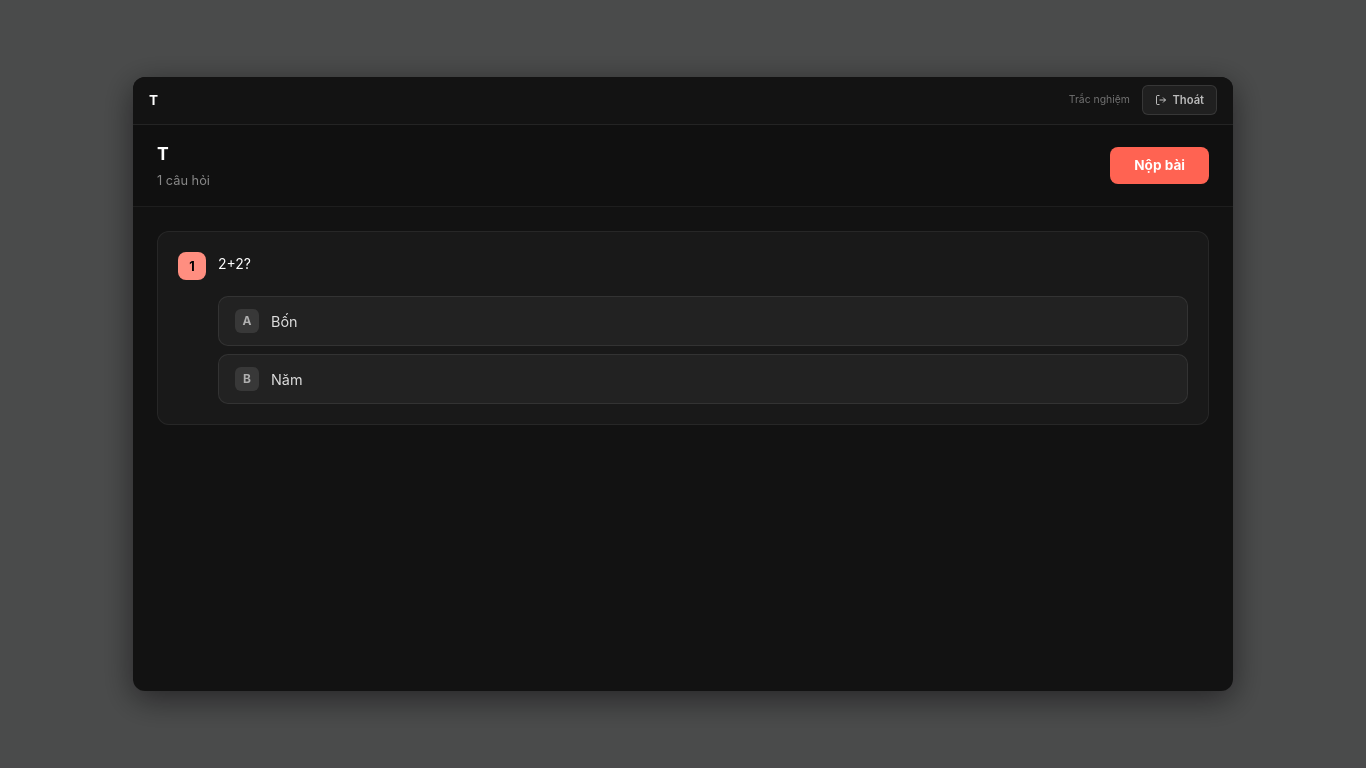
it: AssignmentWorkOverlay — nộp bài vào lớp đã lưu trữ › 409 CLASS_ARCHIVED: hộp thông báo hiện message tiếng Việt của backend, không phải 'HTTP 409'
Click the text "Bốn" at point(284, 321), box x1=271 y1=313 x2=298 y2=330
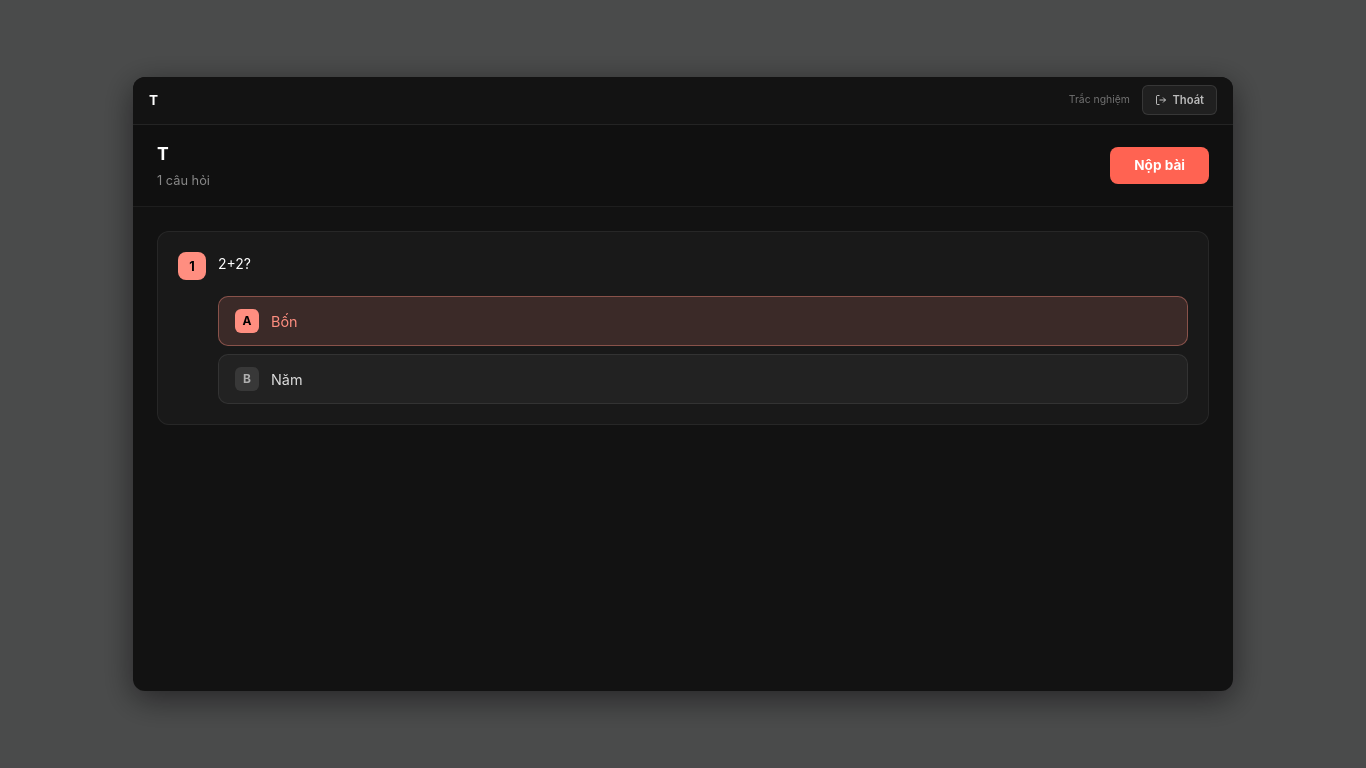
Click the button "Nộp bài" at point(1160, 166), box x1=1110 y1=147 x2=1209 y2=184
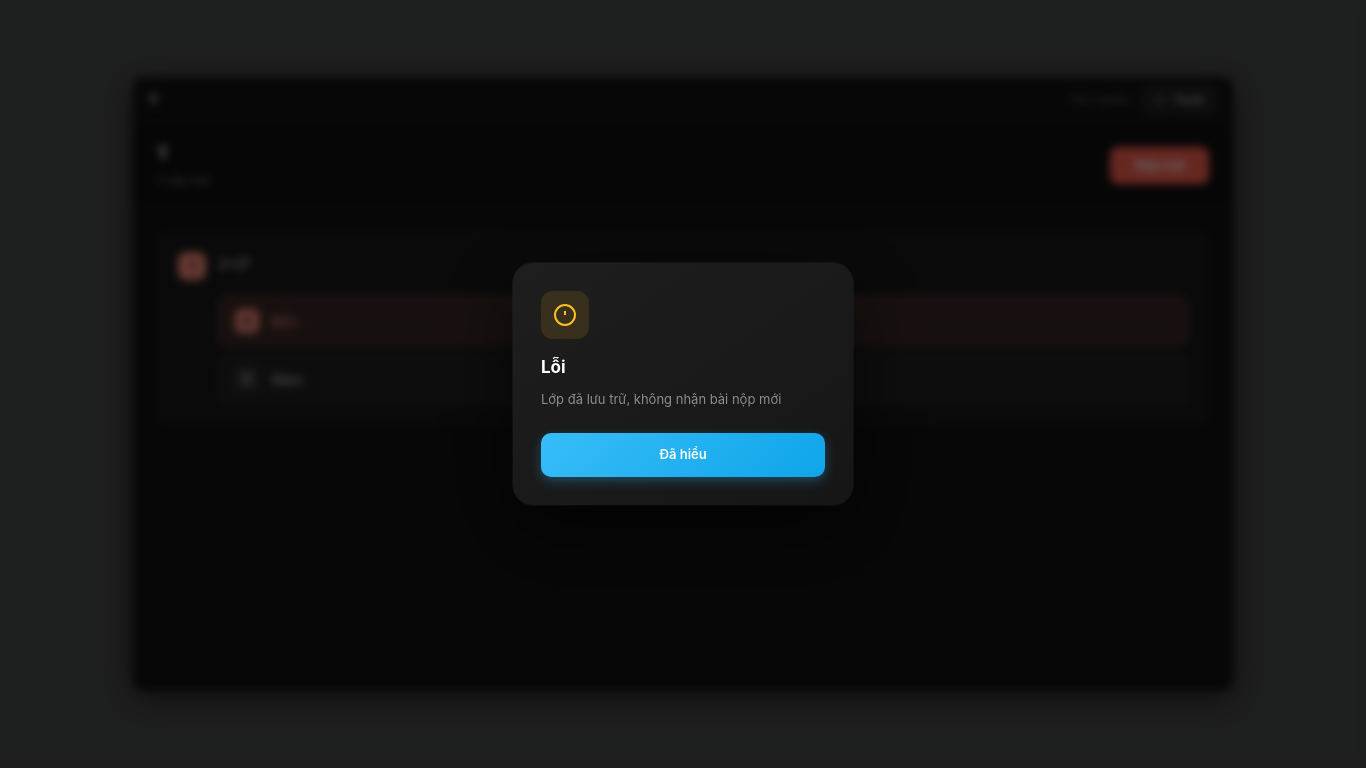
Result: the text "Lớp đã lưu trữ, không nhận bài nộp mới" is shown at x1=541 y1=391 x2=781 y2=407
